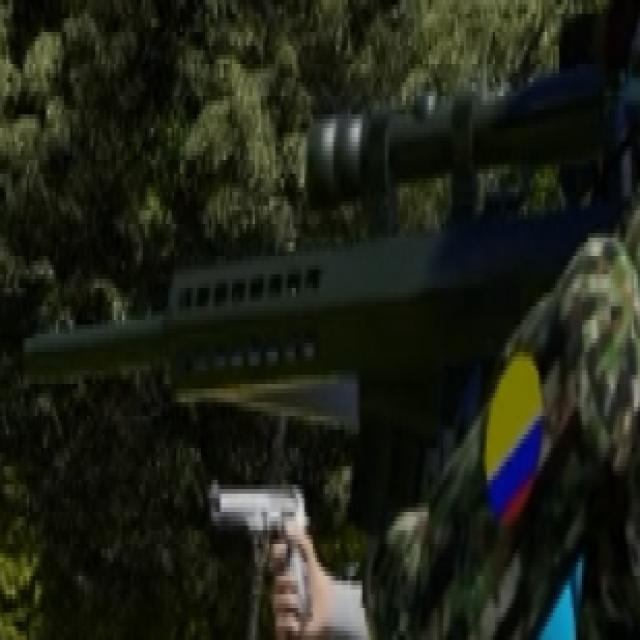RifleTel: (10, 62, 640, 527)
